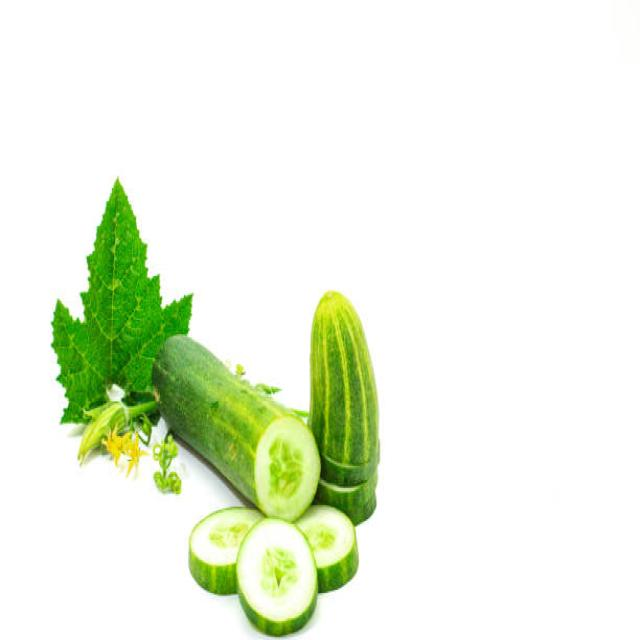cucumber: (152, 334, 321, 522), (306, 286, 380, 528)
